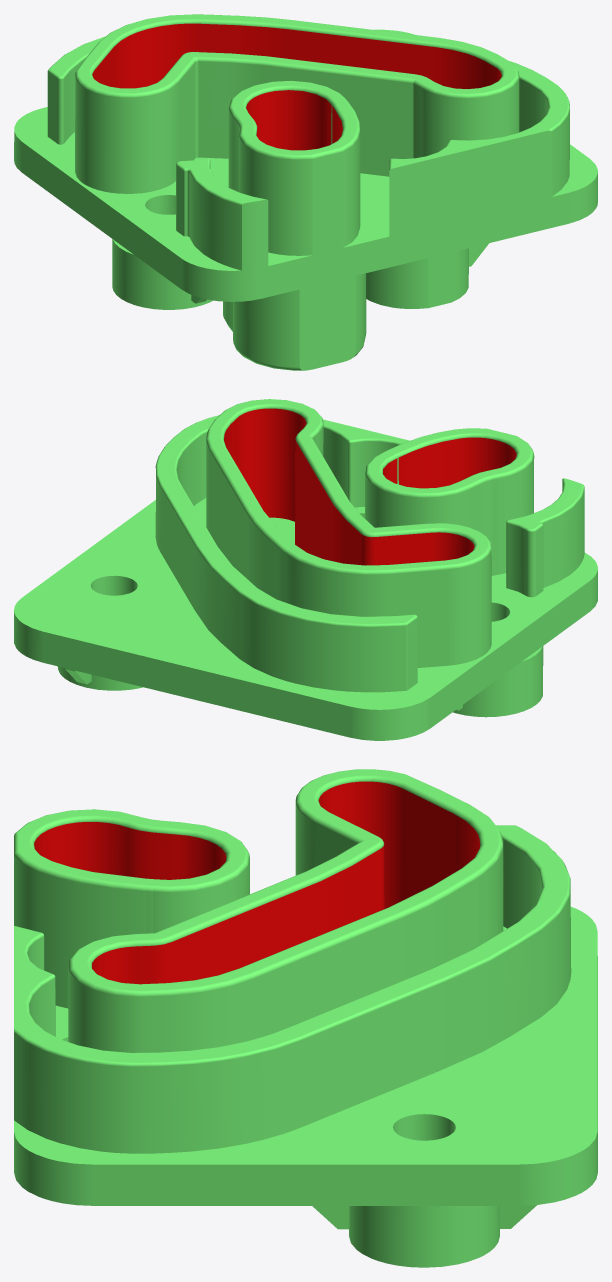
The model's file is dea61f20-629c-4e77-8280-cfd08347b0ab.glb.
3 views of the same model, one above another, from view 1: azimuth 30°, elevation 25°; view 2: azimuth 150°, elevation 25°; view 3: azimuth 270°, elevation 25° (orthographic). The views are drawn at different scales.
Visible parts, largest first — view 1: 门体-72_Default; view 2: 门体-72_Default; view 3: 门体-72_Default.
Boxes of the visible parts, x1,y1,x2,y2 form: 门体-72_Default: (14,14,597,370); 门体-72_Default: (14,399,597,740); 门体-72_Default: (14,769,597,1267).
Size of the model in its own units: 0.0404 by 0.02 by 0.0371.
